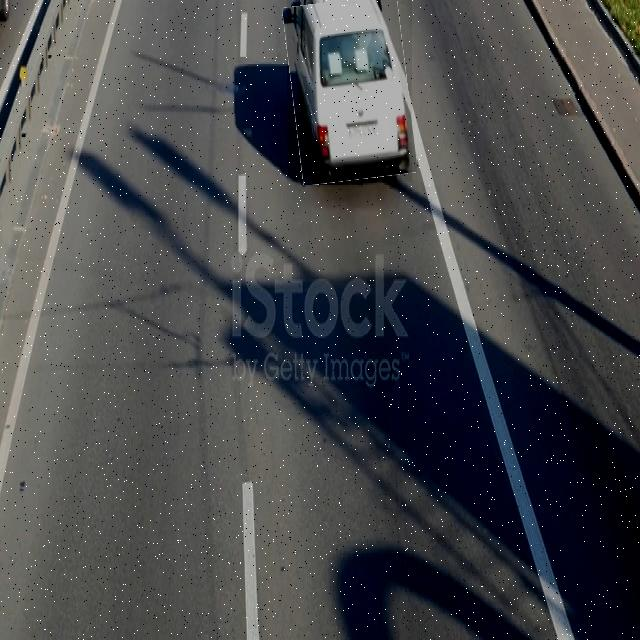Car: (287, 0, 412, 182)
